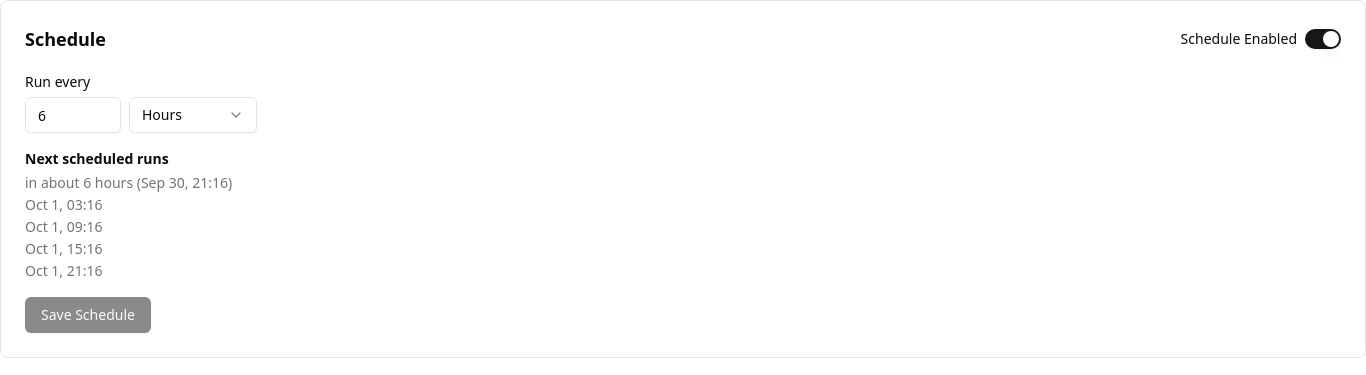
Test: ScheduleBuilder — UI-02: Frontend validation › shows validation error when hours value is 0 (below min of 1)
The image size is (1366, 375).
Replace the text in the number field with placeholder "Value" with "0" at (73, 115), box [25,97,121,133]
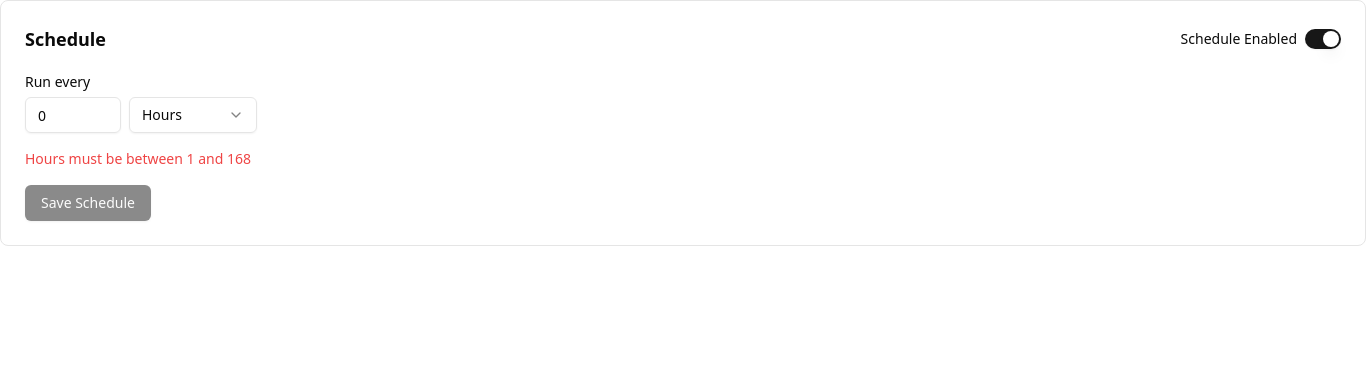
Result: the text "Hours must be between 1 and 168" is shown at [25,149,251,168]
